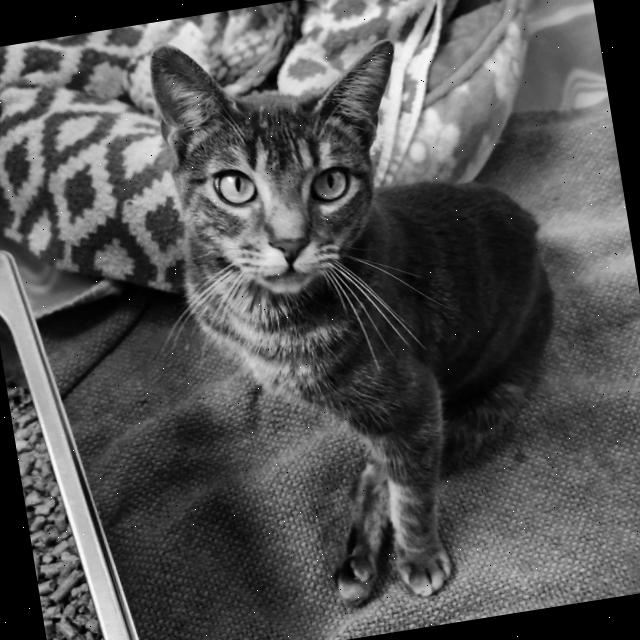manx_cat: (133, 4, 434, 323)
